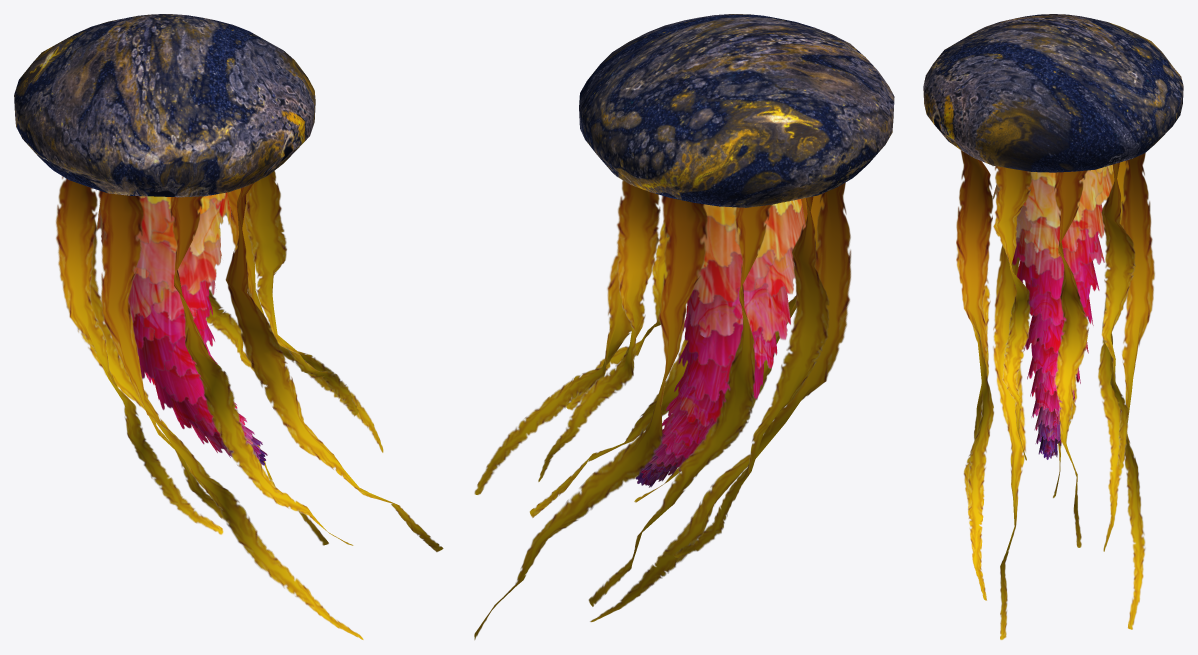
The model's file is jellyfish.glb.
3 renders of one model, left to right at view 1: azimuth 30°, elevation 25°; view 2: azimuth 150°, elevation 25°; view 3: azimuth 270°, elevation 25°, orthographic. The views are drawn at different scales.
Parts seen in each view (by area): view 1: Cap, Arms, Foot; view 2: Arms, Cap, Foot; view 3: Arms, Cap, Foot.
Part boxes in pixels (<box>): Cap: <box>14,14,315,197</box>; Arms: <box>56,171,443,639</box>; Foot: <box>96,192,267,465</box>; Arms: <box>474,180,851,639</box>; Cap: <box>579,14,894,207</box>; Foot: <box>635,199,805,487</box>; Arms: <box>956,150,1154,640</box>; Cap: <box>923,14,1183,172</box>; Foot: <box>992,164,1113,459</box>.
Size of the model in its own units: 3.55 by 5.77 by 2.51.
2 materials, 2 textured.
